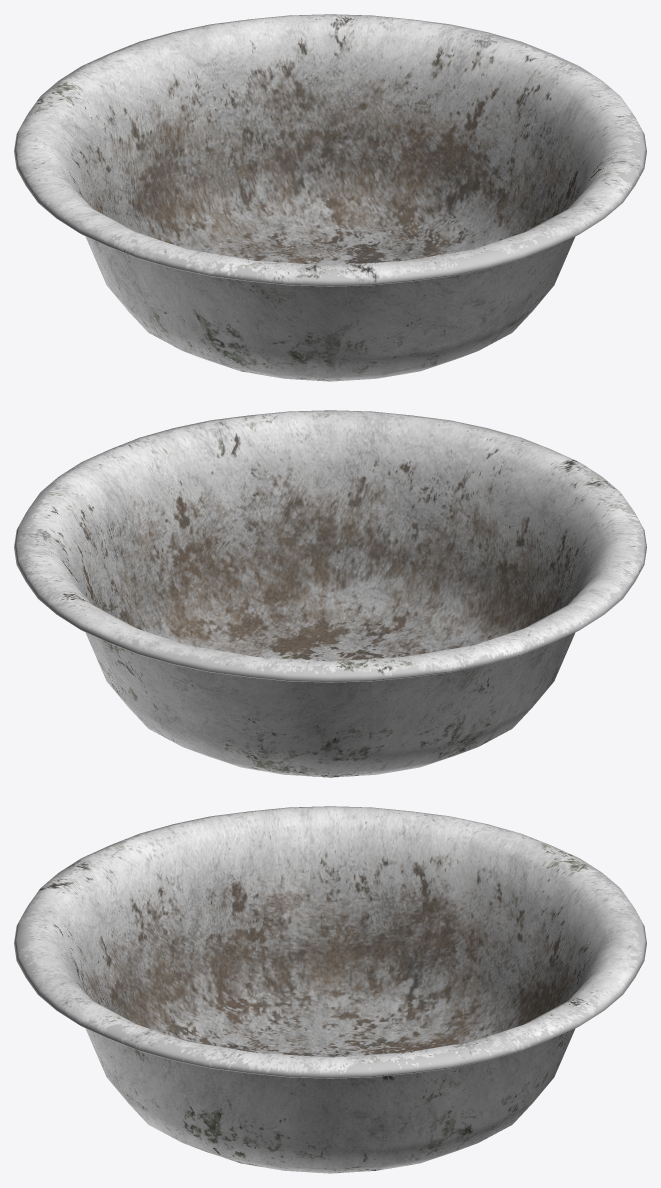
File: SM_Basin01_LOD0.glb
The picture shows the model from 3 angles, top to bottom: view 1: azimuth 30°, elevation 25°; view 2: azimuth 150°, elevation 25°; view 3: azimuth 270°, elevation 25°; orthographic projection.
Visible parts, largest first — view 1: SM_Basin01_LOD0; view 2: SM_Basin01_LOD0; view 3: SM_Basin01_LOD0.
Boxes of the visible parts, box(x1,y1,x2,y2) form: SM_Basin01_LOD0: box(14, 14, 646, 381); SM_Basin01_LOD0: box(14, 410, 646, 777); SM_Basin01_LOD0: box(14, 806, 646, 1173).
Bounding box in the file's own units: 0.8016 × 0.2364 × 0.8015.
1 material, 1 textured.
